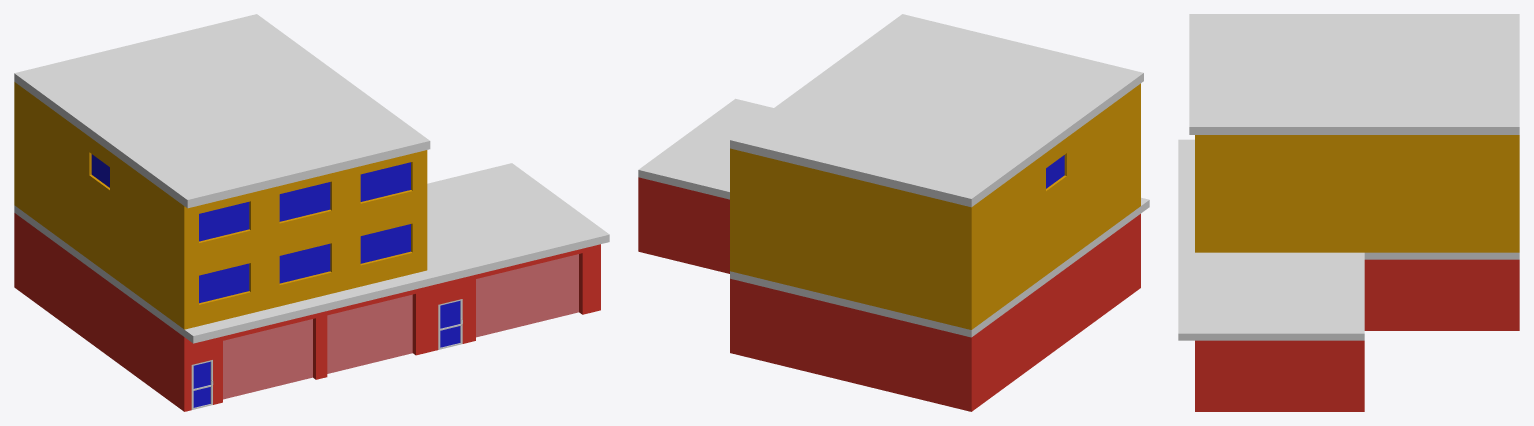
File: building17.fbx
3 renders of one model, left to right at view 1: azimuth 30°, elevation 25°; view 2: azimuth 150°, elevation 25°; view 3: azimuth 270°, elevation 25°, orthographic. The views are drawn at different scales.
Visible parts, largest first — view 1: building6; view 2: building6; view 3: building6.
Boxes of the visible parts, x1,y1,x2,y2 form: building6: (14, 14, 609, 411); building6: (638, 14, 1149, 411); building6: (1178, 14, 1519, 411).
Bounding box in the file's own units: 2118 × 1041 × 1578.
